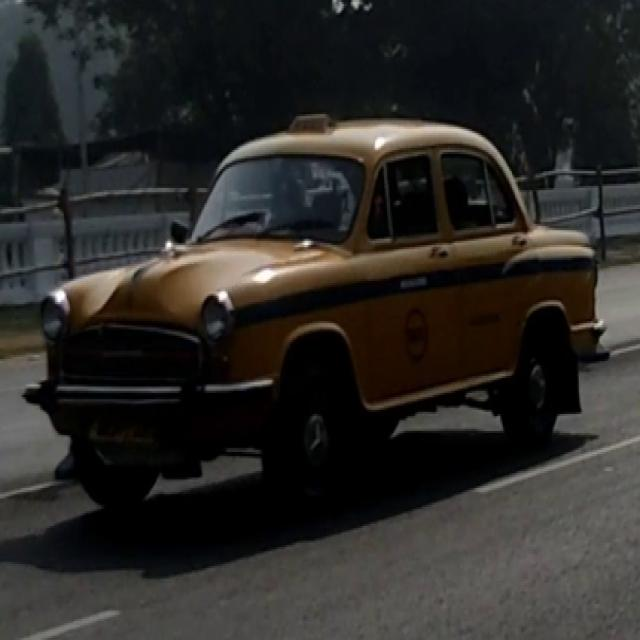ambasador_taxi: (26, 118, 603, 508)
